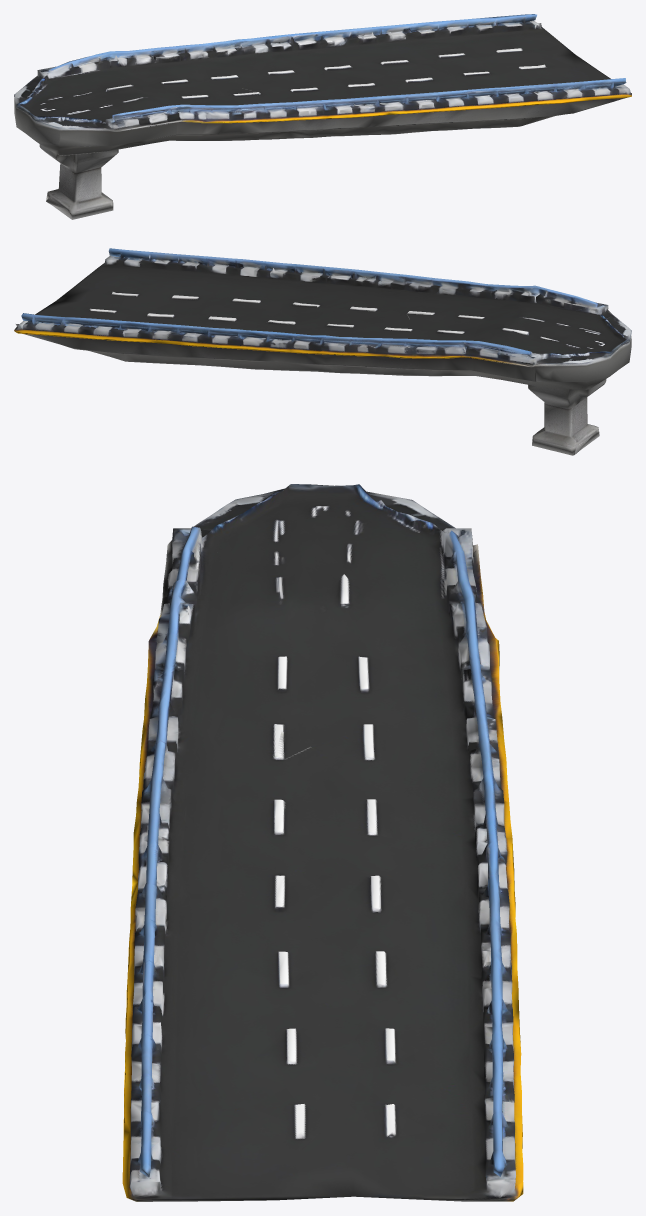
Rendered from 3laneramp.glb.
The picture shows the model from 3 angles, top to bottom: view 1: azimuth 30°, elevation 25°; view 2: azimuth 150°, elevation 25°; view 3: azimuth 270°, elevation 25°; orthographic projection. The views are drawn at different scales.
Visible parts, largest first — view 1: tripo_node_24d9c90c-7665-4f37-a3de-32380dc94a2d; view 2: tripo_node_24d9c90c-7665-4f37-a3de-32380dc94a2d; view 3: tripo_node_24d9c90c-7665-4f37-a3de-32380dc94a2d.
Boxes of the visible parts, bbox=[...] form: tripo_node_24d9c90c-7665-4f37-a3de-32380dc94a2d: bbox=[14, 14, 631, 219]; tripo_node_24d9c90c-7665-4f37-a3de-32380dc94a2d: bbox=[14, 248, 631, 455]; tripo_node_24d9c90c-7665-4f37-a3de-32380dc94a2d: bbox=[122, 484, 523, 1201].
Size of the model in its own units: 1 by 0.196 by 0.31.
Materials: 1 (1 with a texture image).
